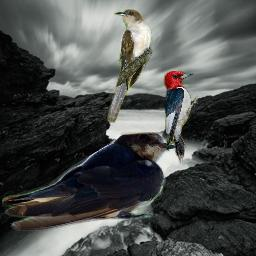Cuckoo: (107, 9, 153, 123)
Swallow: (2, 132, 178, 231)
Woodpecker: (162, 71, 201, 164)
